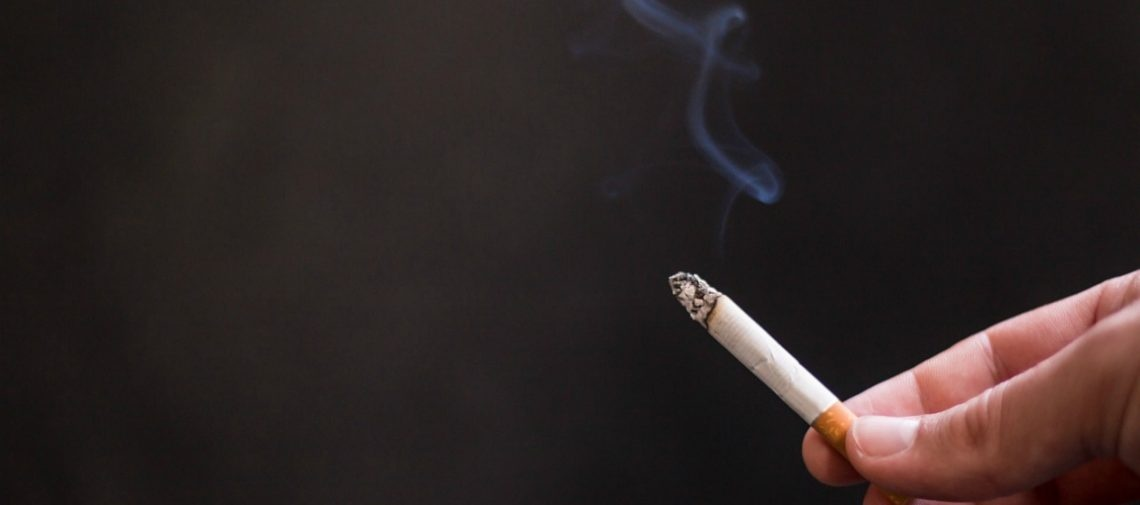sigaretta: (667, 255, 867, 459)
